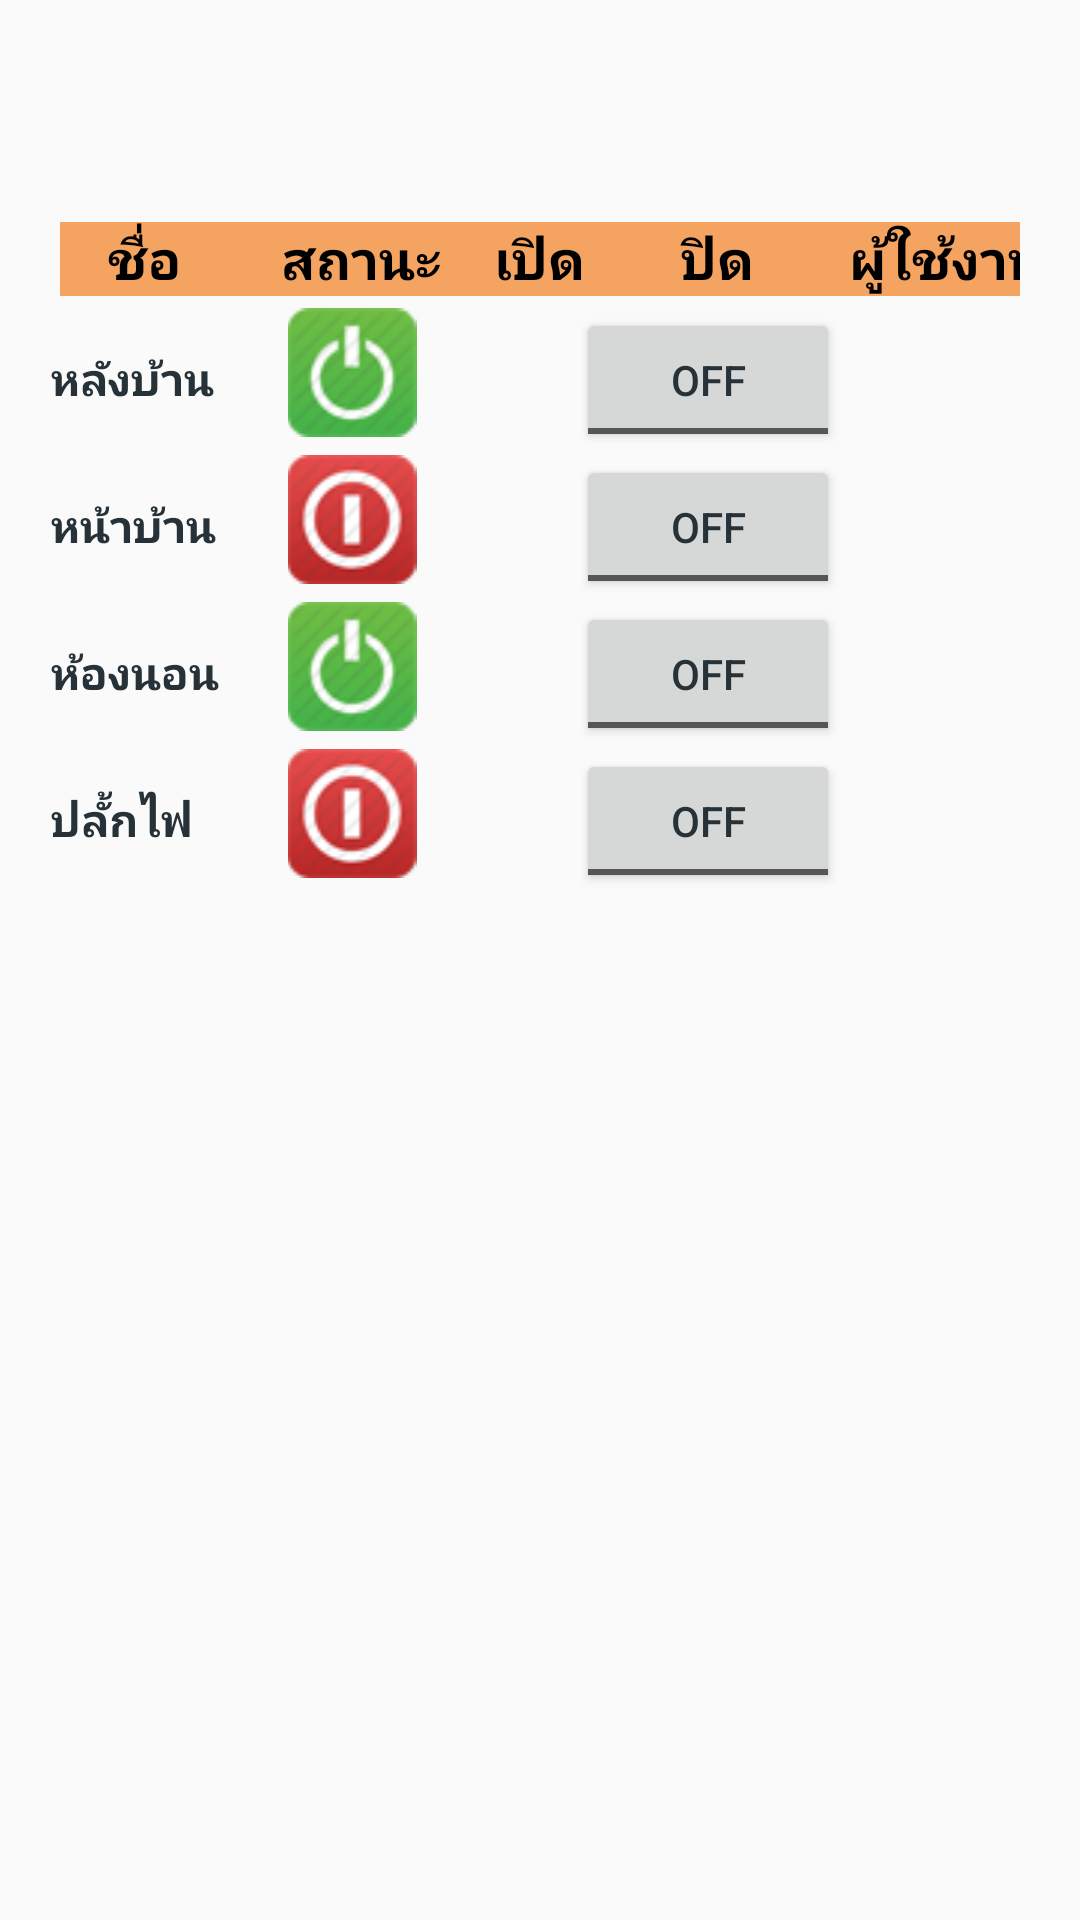

Icon click points for this 1080px×1920px phone screenshot, format point (x, y):
turn off on power: point (352, 519), point (352, 813)
turn on off power: point (352, 372), point (352, 666)
